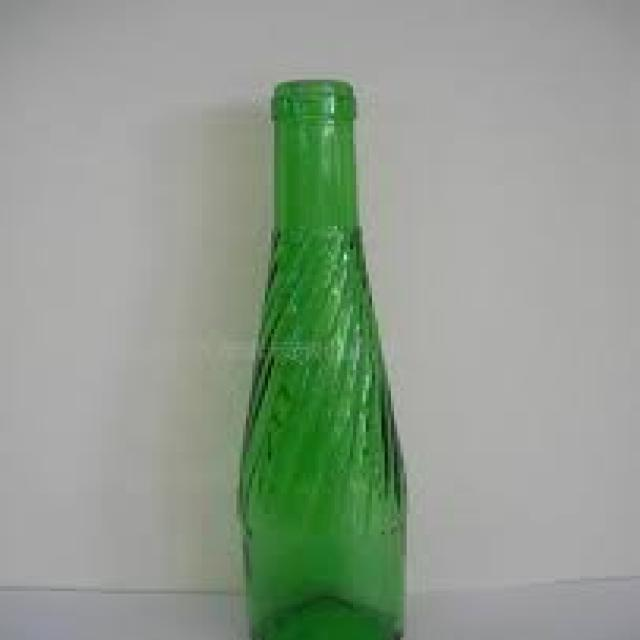glass: (230, 77, 407, 638)
